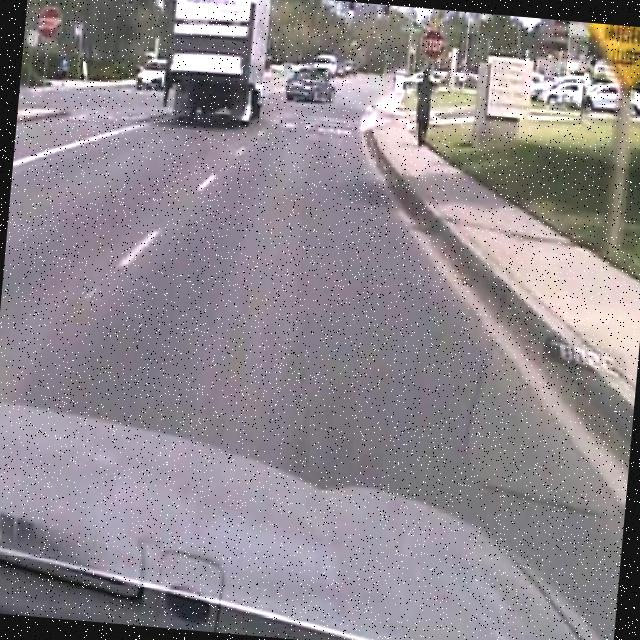Stop: (418, 26, 448, 64)
